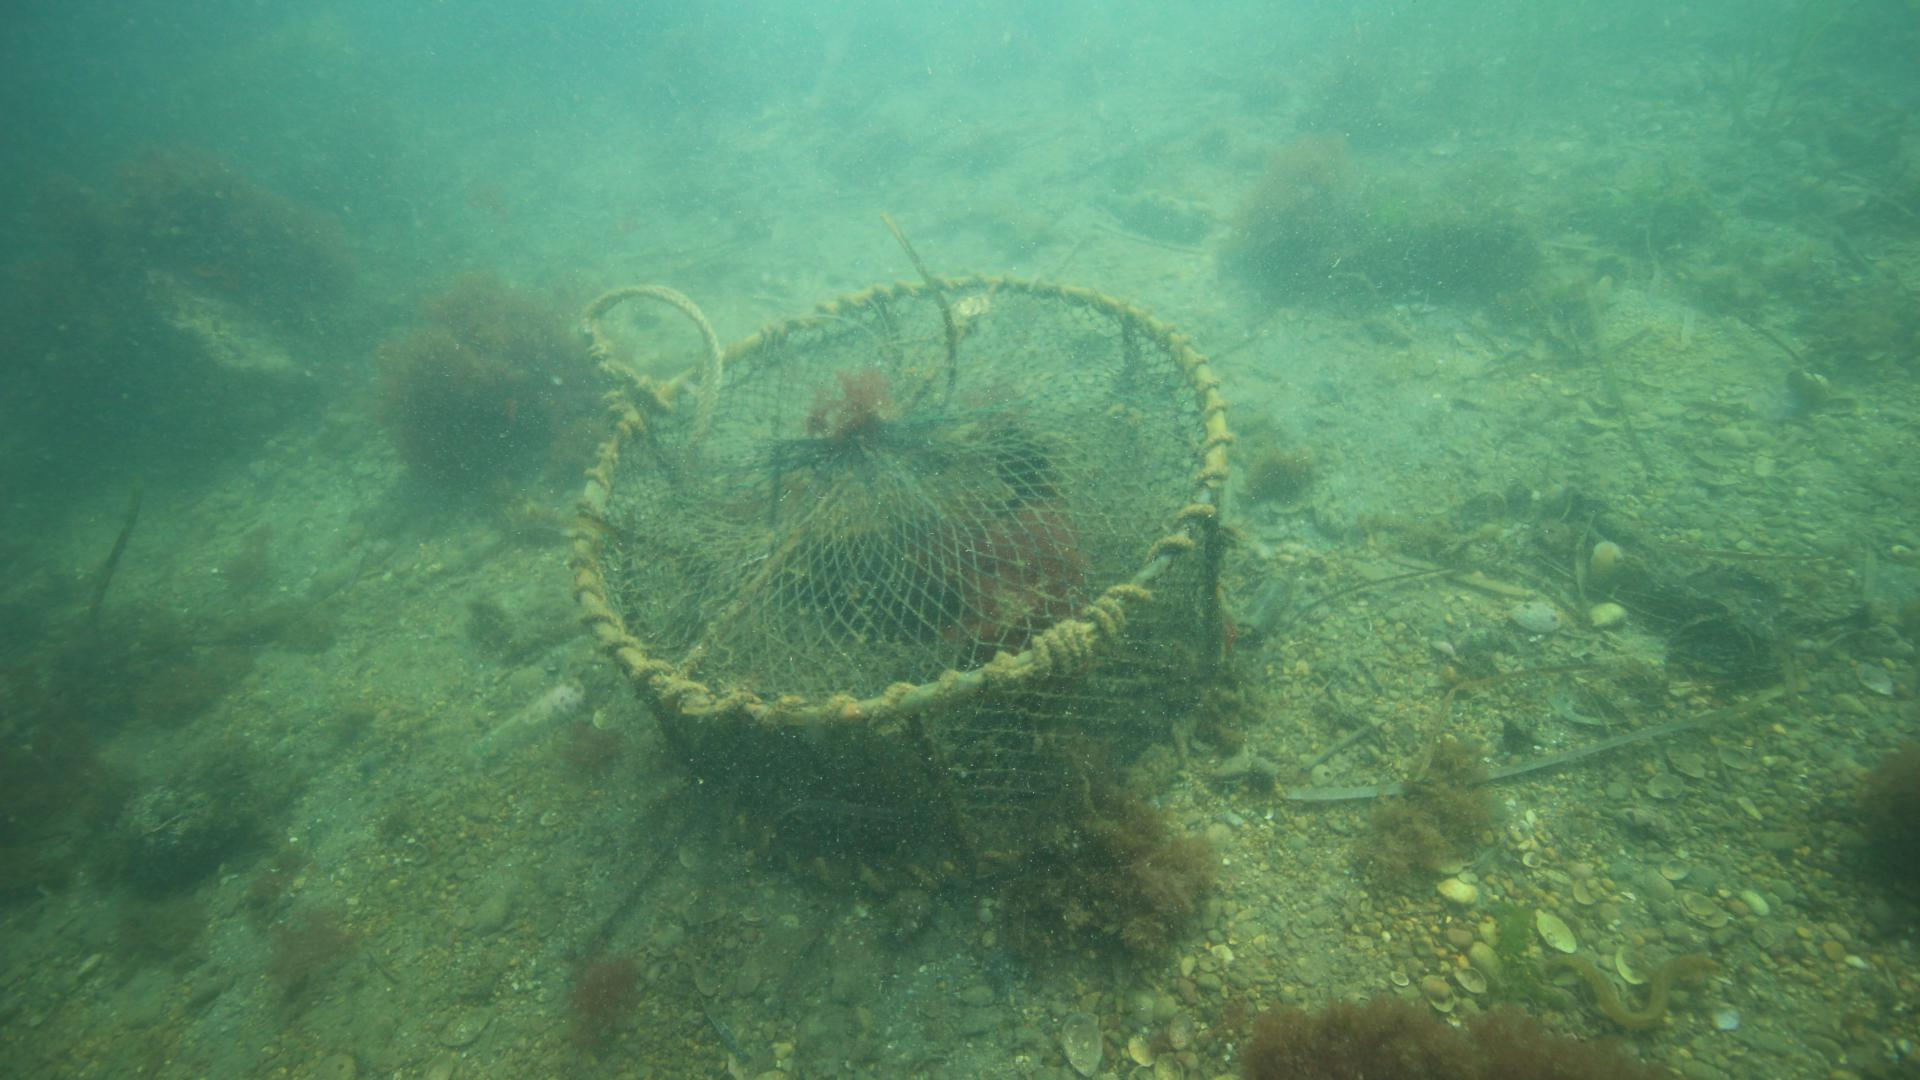bundle of ropes: (585, 278, 724, 454)
circular fish trap: (572, 273, 1232, 895)
